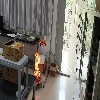fire: (34, 51, 40, 83)
